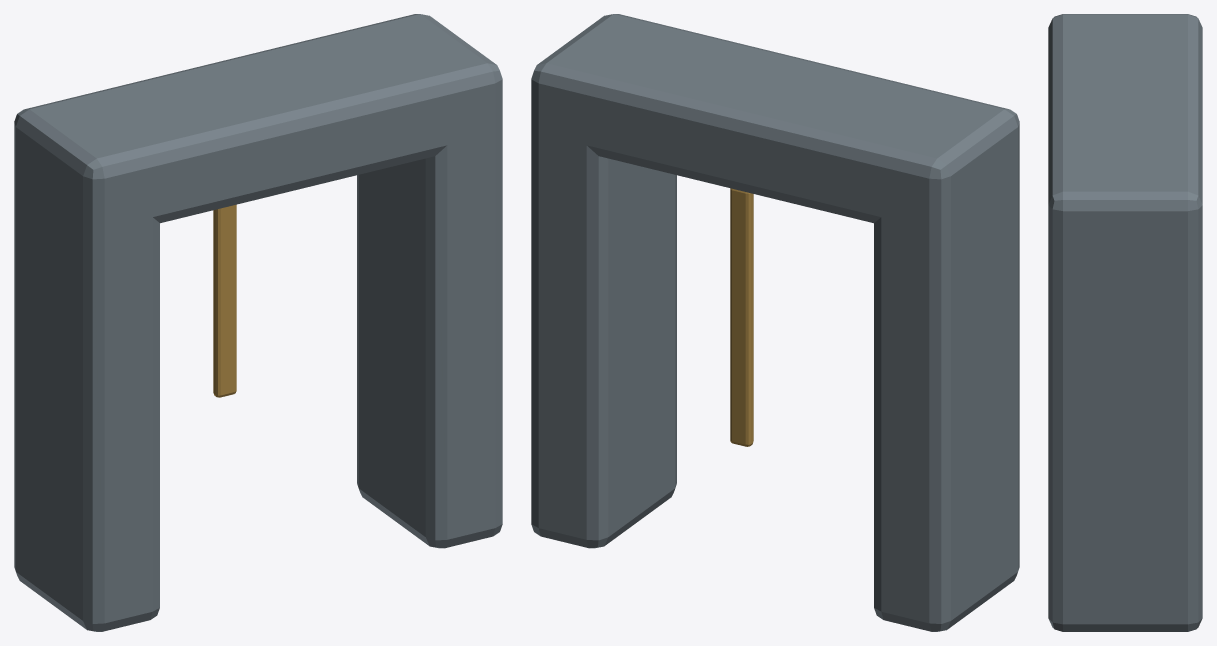
Rendered from Archive-Data-Vault.glb.
3 renders of one model, left to right at view 1: azimuth 30°, elevation 25°; view 2: azimuth 150°, elevation 25°; view 3: azimuth 270°, elevation 25°, orthographic. The views are drawn at different scales.
Parts seen in each view (by area): view 1: Data_Vault_Top, Data_Vault_L, Data_Vault_R, Data_Vault_Glow; view 2: Data_Vault_Top, Data_Vault_L, Data_Vault_R, Data_Vault_Glow; view 3: Data_Vault_R, Data_Vault_Top.
Boxes of the visible parts, x1,y1,x2,y2 form: Data_Vault_Top: (14,14,502,229); Data_Vault_L: (14,154,159,631); Data_Vault_R: (357,112,502,548); Data_Vault_Glow: (213,204,236,397); Data_Vault_Top: (531,14,1019,229); Data_Vault_L: (874,152,1019,631); Data_Vault_R: (531,106,676,548); Data_Vault_Glow: (730,188,753,446); Data_Vault_R: (1048,229,1202,631); Data_Vault_Top: (1048,14,1202,257).
Size of the model in its own units: 2.44 by 2.64 by 0.84.
